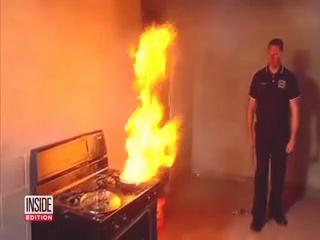Fire: (116, 49, 206, 186)
